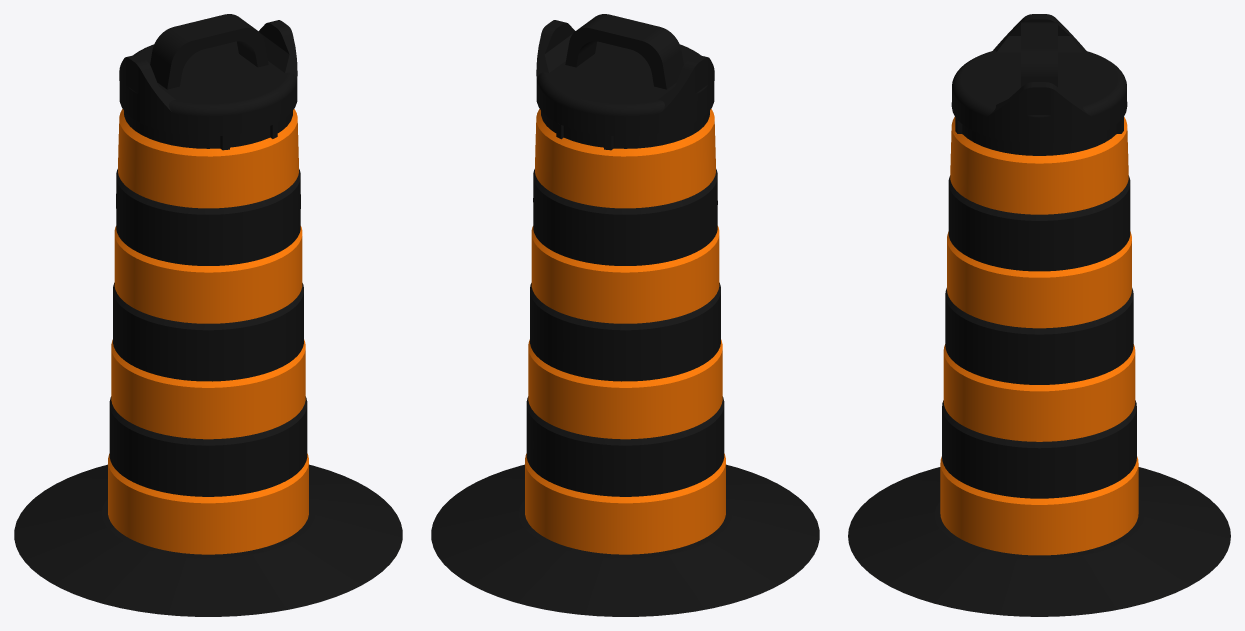
File: Day 33 - Construction Cone.glb
The picture shows the model from 3 angles, left to right: view 1: azimuth 30°, elevation 25°; view 2: azimuth 150°, elevation 25°; view 3: azimuth 270°, elevation 25°; orthographic projection.
Parts seen in each view (by area): view 1: Body1, Body6, Body10, Body11, Body12, Body13, Body2, Body14, Body15, Body9, Body7; view 2: Body1, Body6, Body10, Body11, Body12, Body13, Body2, Body14, Body15, Body9, Body7; view 3: Body1, Body6, Body10, Body11, Body12, Body13, Body2, Body14, Body15, Body9, Body7.
Boxes of the visible parts, x1,y1,x2,y2 form: Body1: [14, 464, 402, 616]; Body6: [119, 20, 297, 150]; Body10: [108, 453, 308, 554]; Body11: [109, 396, 307, 496]; Body12: [111, 339, 305, 439]; Body13: [113, 282, 303, 381]; Body2: [118, 109, 298, 208]; Body14: [114, 226, 302, 323]; Body15: [116, 169, 300, 265]; Body9: [150, 14, 268, 89]; Body7: [119, 54, 175, 113]; Body1: [431, 464, 819, 616]; Body6: [536, 20, 714, 150]; Body10: [525, 453, 725, 554]; Body11: [526, 396, 724, 496]; Body12: [528, 339, 722, 439]; Body13: [530, 282, 720, 381]; Body2: [535, 109, 715, 208]; Body14: [531, 226, 719, 323]; Body15: [533, 169, 717, 265]; Body9: [565, 14, 683, 89]; Body7: [658, 54, 714, 113]; Body1: [848, 467, 1230, 616]; Body6: [951, 50, 1127, 155]; Body10: [940, 456, 1138, 555]; Body11: [942, 400, 1136, 498]; Body12: [943, 344, 1135, 441]; Body13: [945, 288, 1133, 384]; Body2: [950, 117, 1128, 214]; Body14: [947, 231, 1131, 328]; Body15: [948, 175, 1130, 271]; Body9: [1021, 22, 1057, 87]; Body7: [993, 14, 1086, 52].
Bounding box in the file's own units: 3.99 × 5.74 × 3.99.
